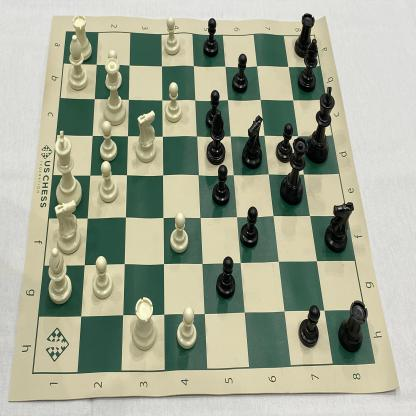black-bishop: (297, 37, 320, 93), (207, 110, 226, 166)
black-king: (305, 84, 337, 165)
black-knight: (325, 199, 354, 254), (240, 114, 265, 170)
black-pawn: (297, 304, 321, 351), (215, 253, 237, 303), (240, 204, 259, 250), (230, 51, 249, 96), (212, 164, 231, 208), (275, 122, 293, 165), (202, 16, 220, 58), (205, 88, 222, 131)
black-queen: (280, 137, 307, 207)
black-rook: (339, 298, 369, 353), (294, 11, 316, 57)
white-bishop: (48, 248, 73, 306), (66, 34, 89, 93)
white-king: (53, 128, 84, 209)
white-knight: (53, 200, 81, 255), (135, 110, 159, 166)
white-pawn: (175, 304, 198, 352), (92, 256, 114, 301), (169, 210, 189, 256), (98, 161, 119, 204), (164, 80, 183, 125), (100, 119, 118, 162), (163, 14, 181, 57), (106, 48, 123, 92)
white-queen: (101, 58, 129, 126)
white-rook: (131, 295, 158, 353), (72, 13, 93, 63)
